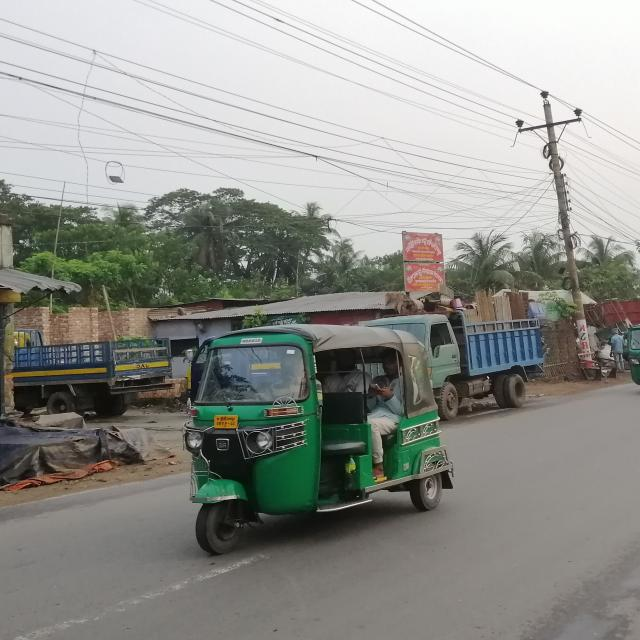CNG: (174, 325, 459, 550)
